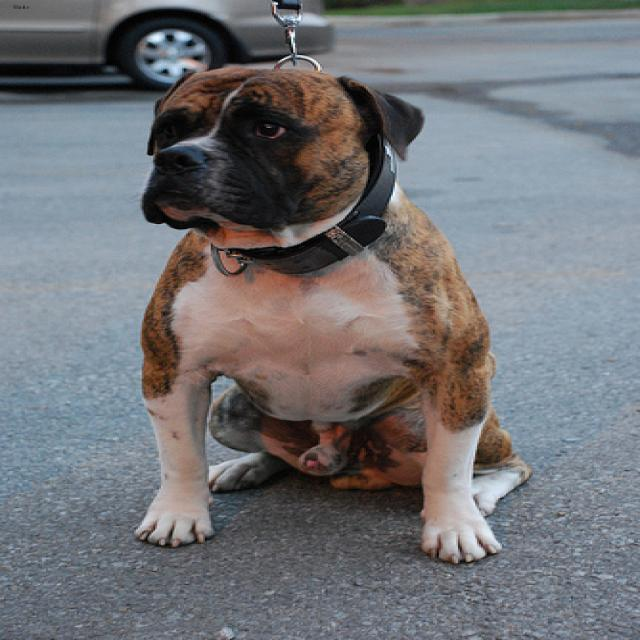dog-american_bulldog: (115, 58, 552, 571)
